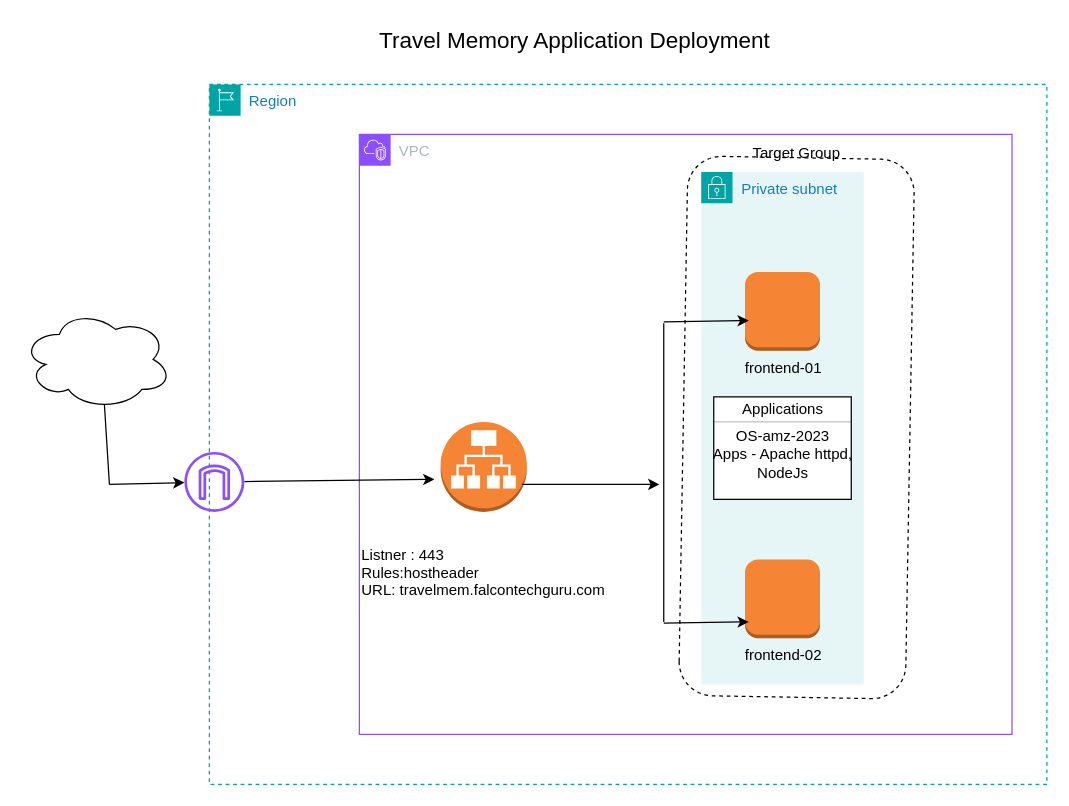
The diagram is 1069 pixels wide and 806 high, and some of its shapes have lost their labels. Each missing label, with the centre of its shape:
Internet: point (96, 358)
Internet Gateway: point (214, 481)
Load Balancer: point (483, 466)
